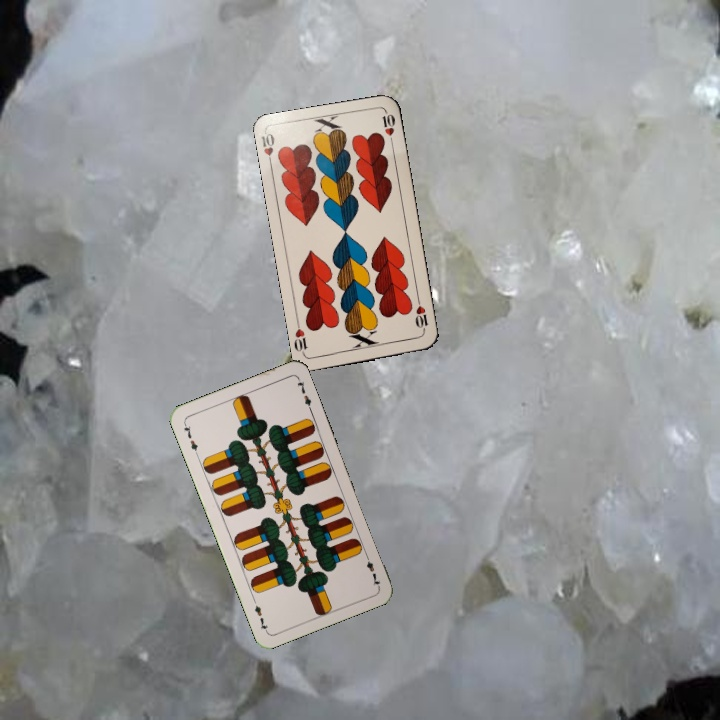E7: (361, 550, 383, 589), (180, 419, 201, 458)
H10: (258, 129, 277, 170), (411, 295, 430, 335)
